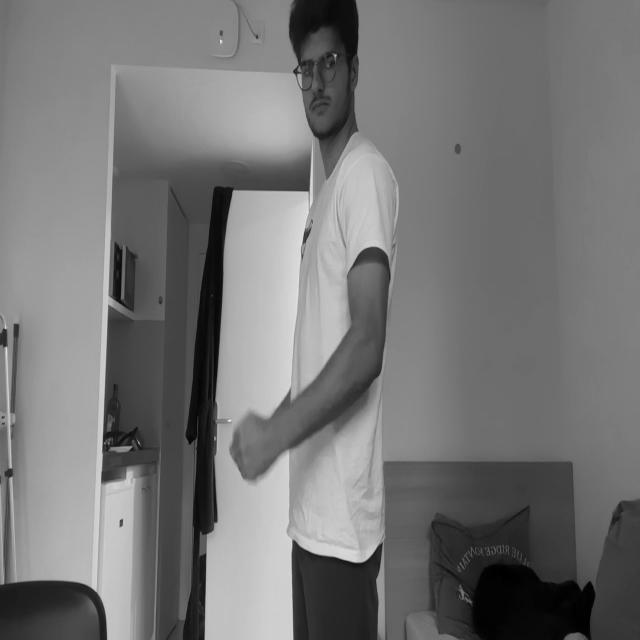elbow: (348, 315, 382, 377)
hand: (231, 412, 273, 484)
shoulder: (340, 144, 392, 247)
